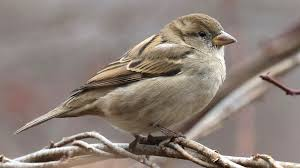hsparrow: (4, 10, 238, 141)
